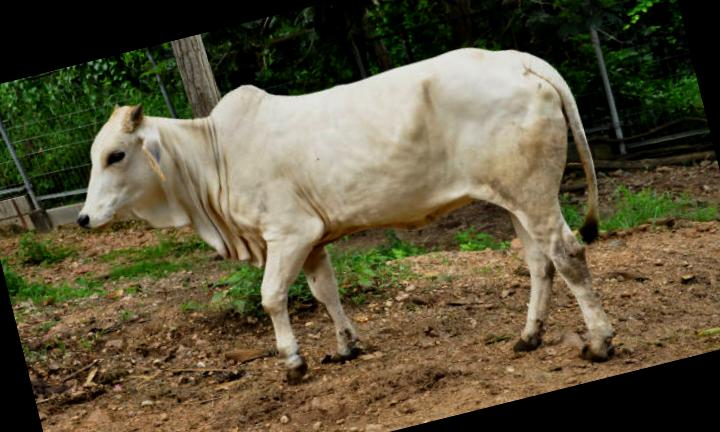Brahman: (76, 47, 612, 380)
